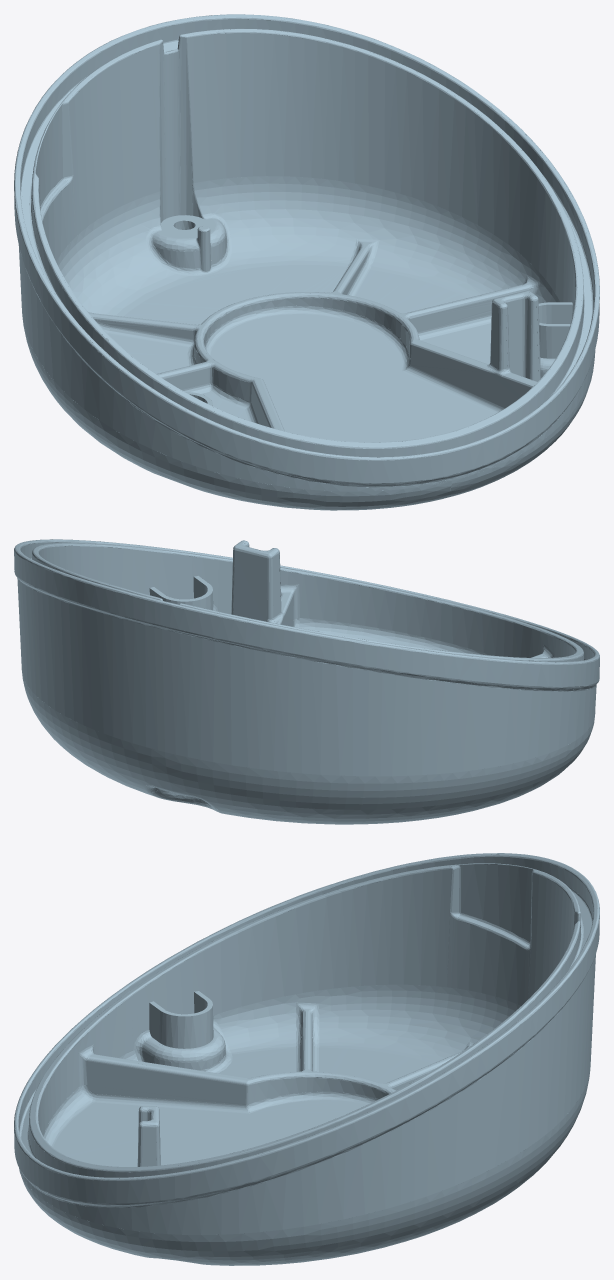
Rendered from ID347_001SVM.obj.
3 views of the same model, one above another, from view 1: azimuth 30°, elevation 25°; view 2: azimuth 150°, elevation 25°; view 3: azimuth 270°, elevation 25° (orthographic).
Visible parts, largest first — view 1: ID347_001SVM; view 2: ID347_001SVM; view 3: ID347_001SVM.
Boxes of the visible parts, <box> form: ID347_001SVM: <box>14,14,599,510</box>; ID347_001SVM: <box>14,539,599,824</box>; ID347_001SVM: <box>14,853,599,1265</box>.
Bounding box in the file's own units: 0.091 × 0.0468 × 0.091.
